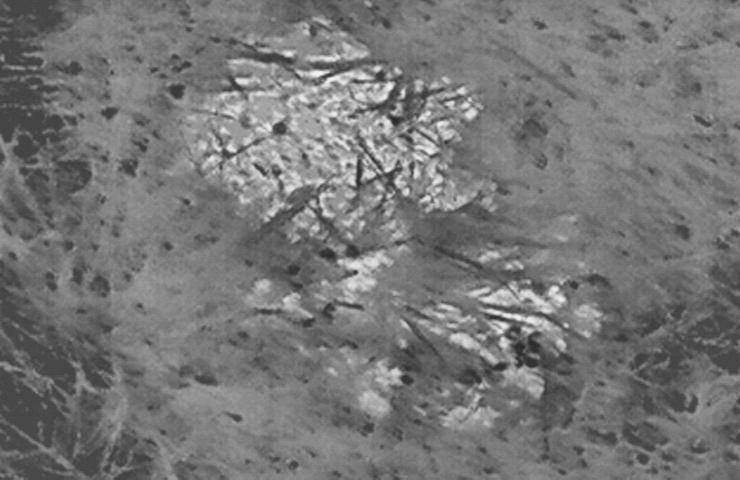landmines: (178, 17, 495, 231)
